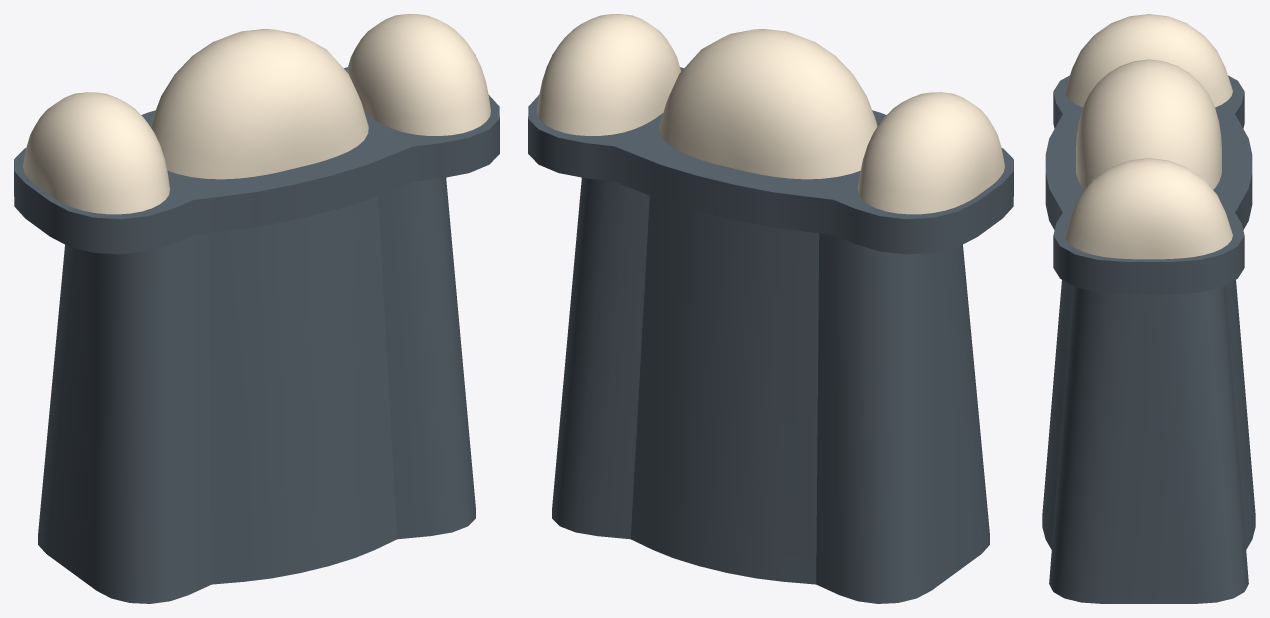
The model's file is Standing_Lights.fbx.
3 renders of one model, left to right at view 1: azimuth 30°, elevation 25°; view 2: azimuth 150°, elevation 25°; view 3: azimuth 270°, elevation 25°, orthographic. The views are drawn at different scales.
Parts seen in each view (by area): view 1: Standing Lights; view 2: Standing Lights; view 3: Standing Lights.
Boxes of the visible parts, bbox=[...] form: Standing Lights: bbox=[14, 14, 499, 603]; Standing Lights: bbox=[528, 14, 1013, 603]; Standing Lights: bbox=[1042, 14, 1255, 603].
Bounding box in the file's own units: 65 × 69.56 × 29.75.
